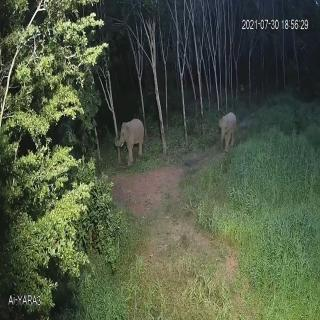Elephant: (112, 114, 151, 168), (217, 106, 242, 158)
